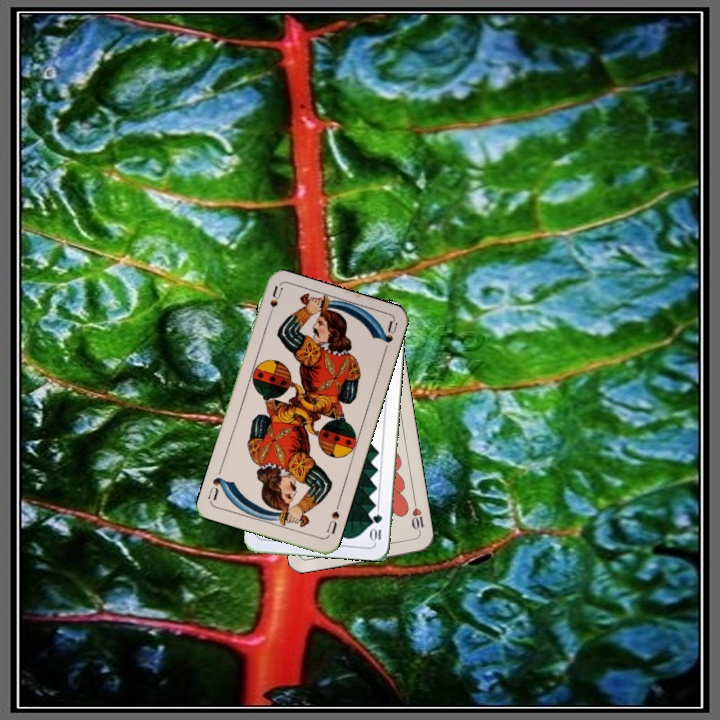G10: (368, 510, 385, 544)
H10: (407, 497, 427, 538)
SU: (263, 283, 285, 323), (322, 500, 342, 539)
